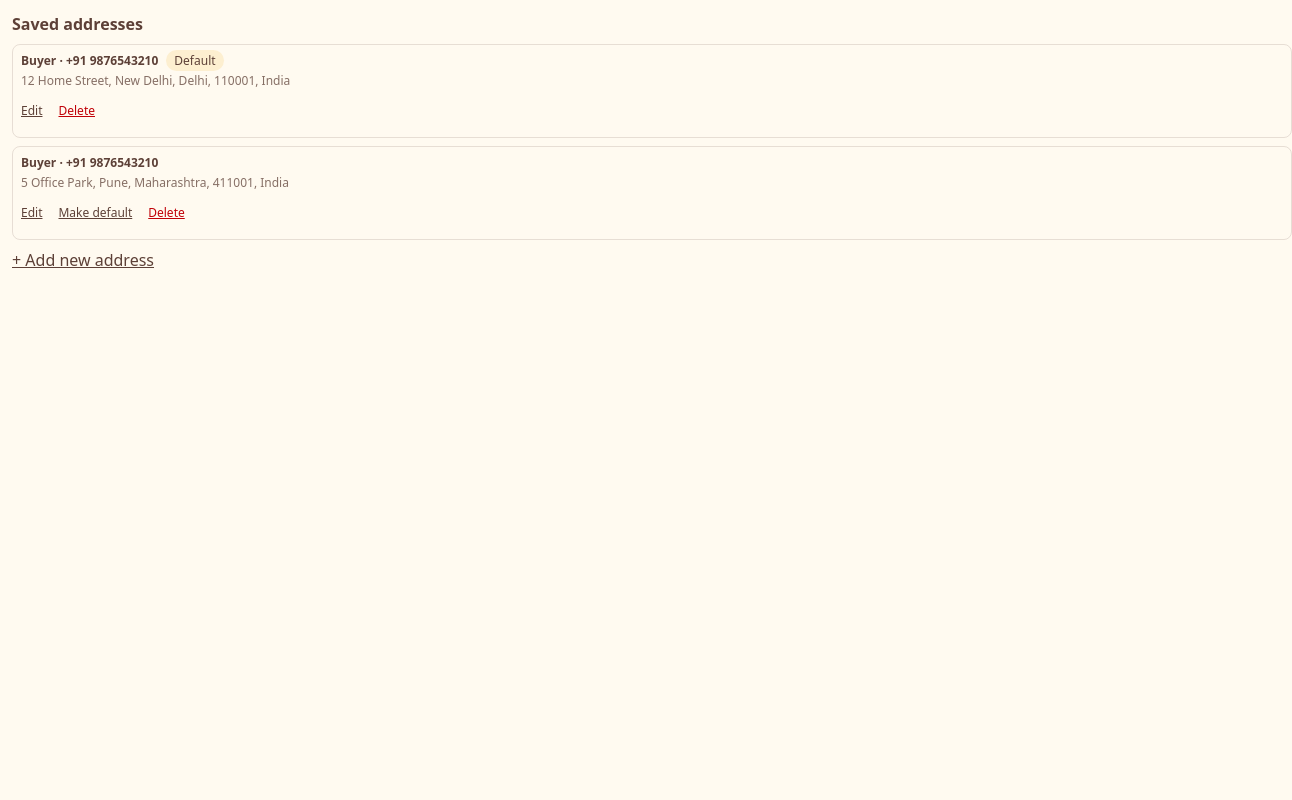
Test: adds a new address and refreshes the default
Click the button "+ Add new address". click: (83, 260)
box: [12,248,154,272]
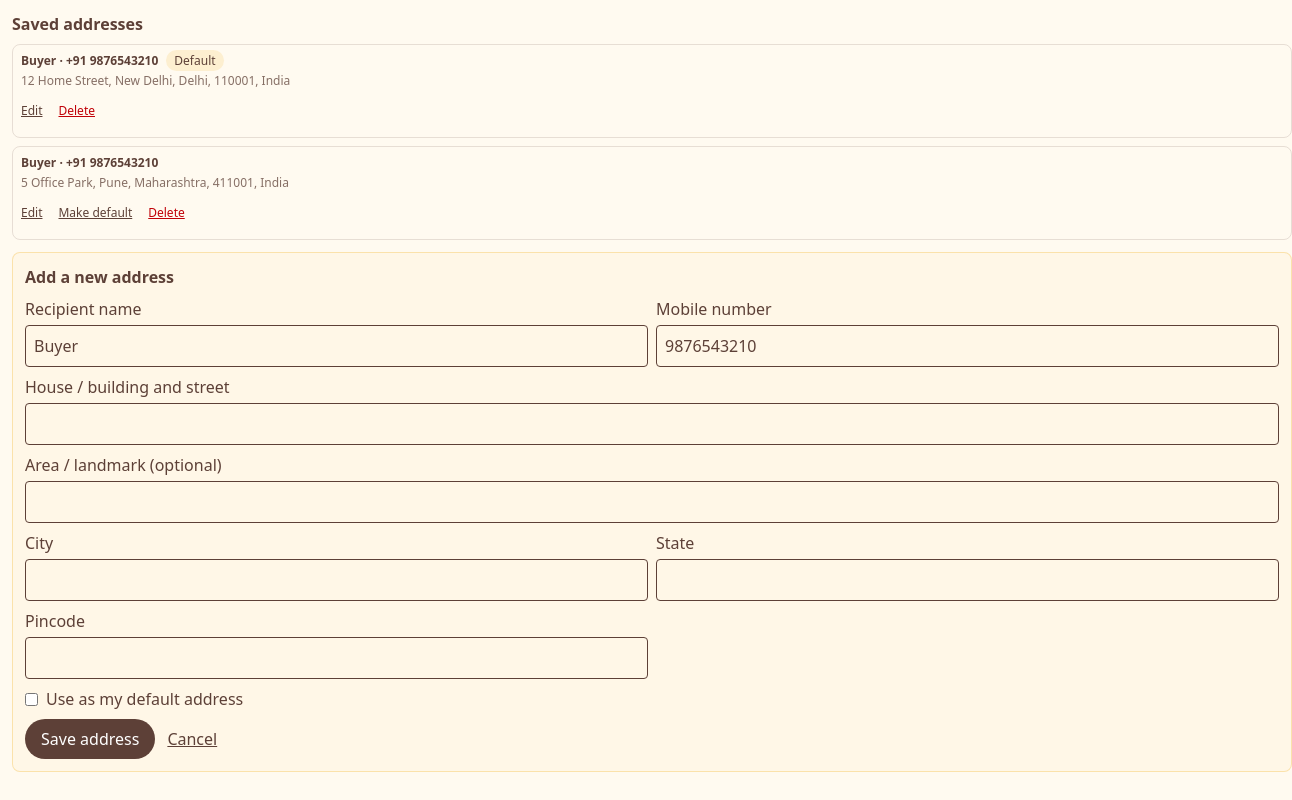
Expected: the field labelled "Recipient name" holds "Buyer", [25,325,648,367]
Type "9 New Lane" into the field labelled "House / building and street". click: (652, 424)
box: [25,403,1279,445]
Type "Jaipur" into the field labelled "City". click: (336, 580)
box: [25,559,648,601]
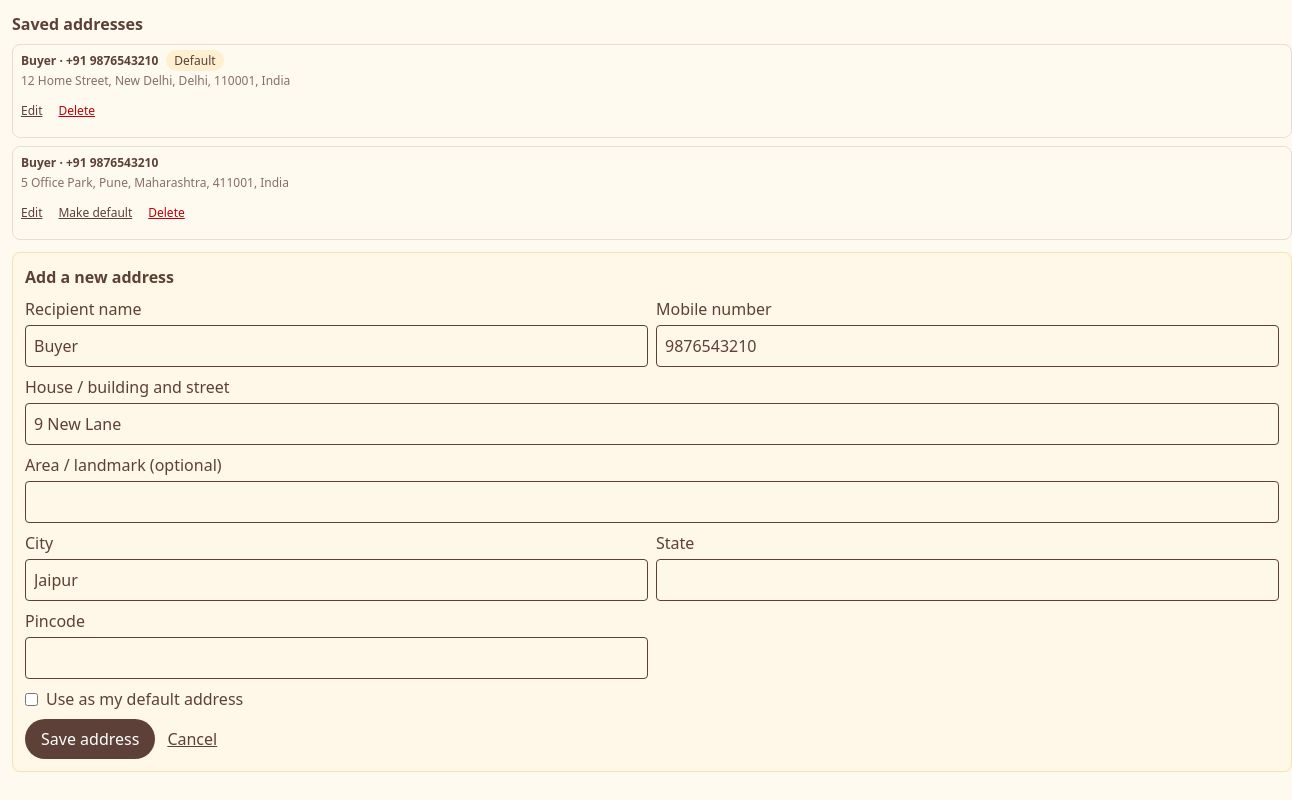
Type "Rajasthan" into the field labelled "State". click: (968, 580)
box: [656,559,1279,601]
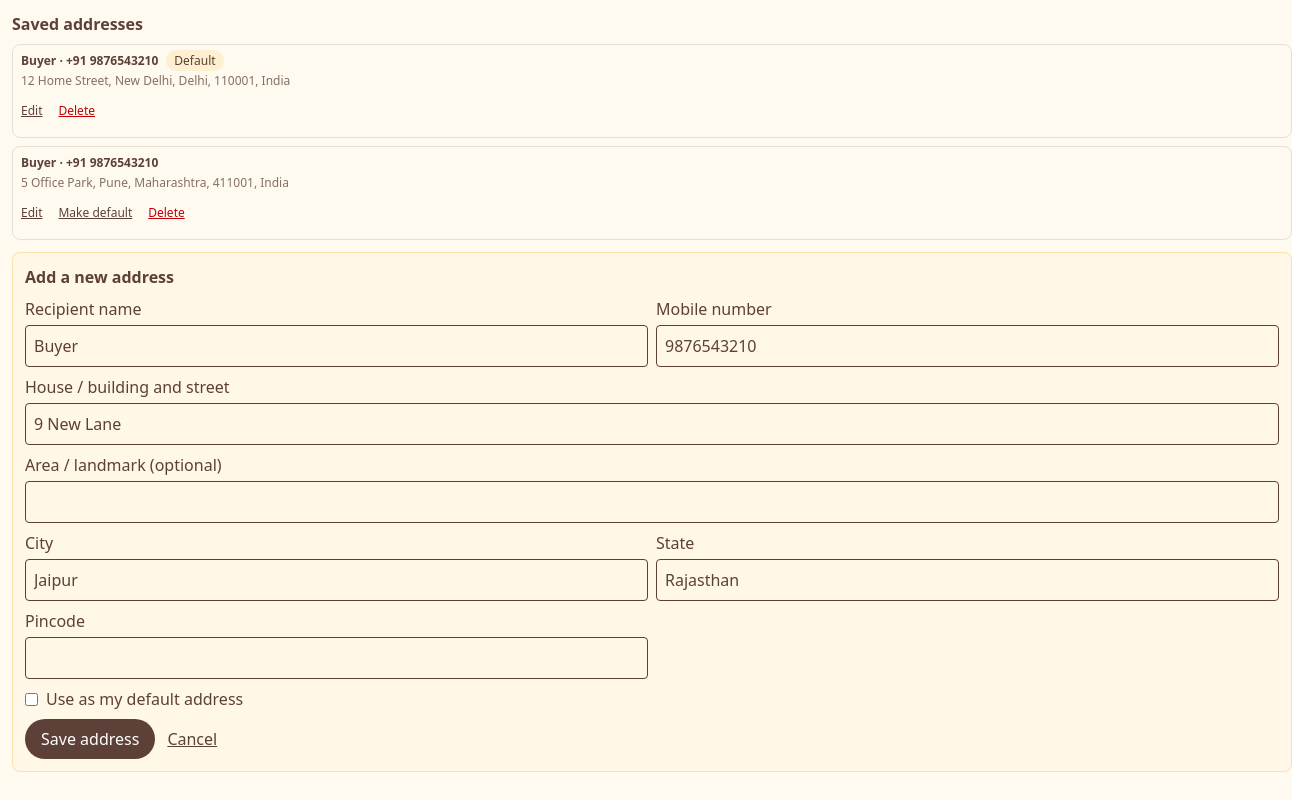
Type "302001" into the field labelled "Pincode". click: (336, 658)
box: [25,637,648,679]
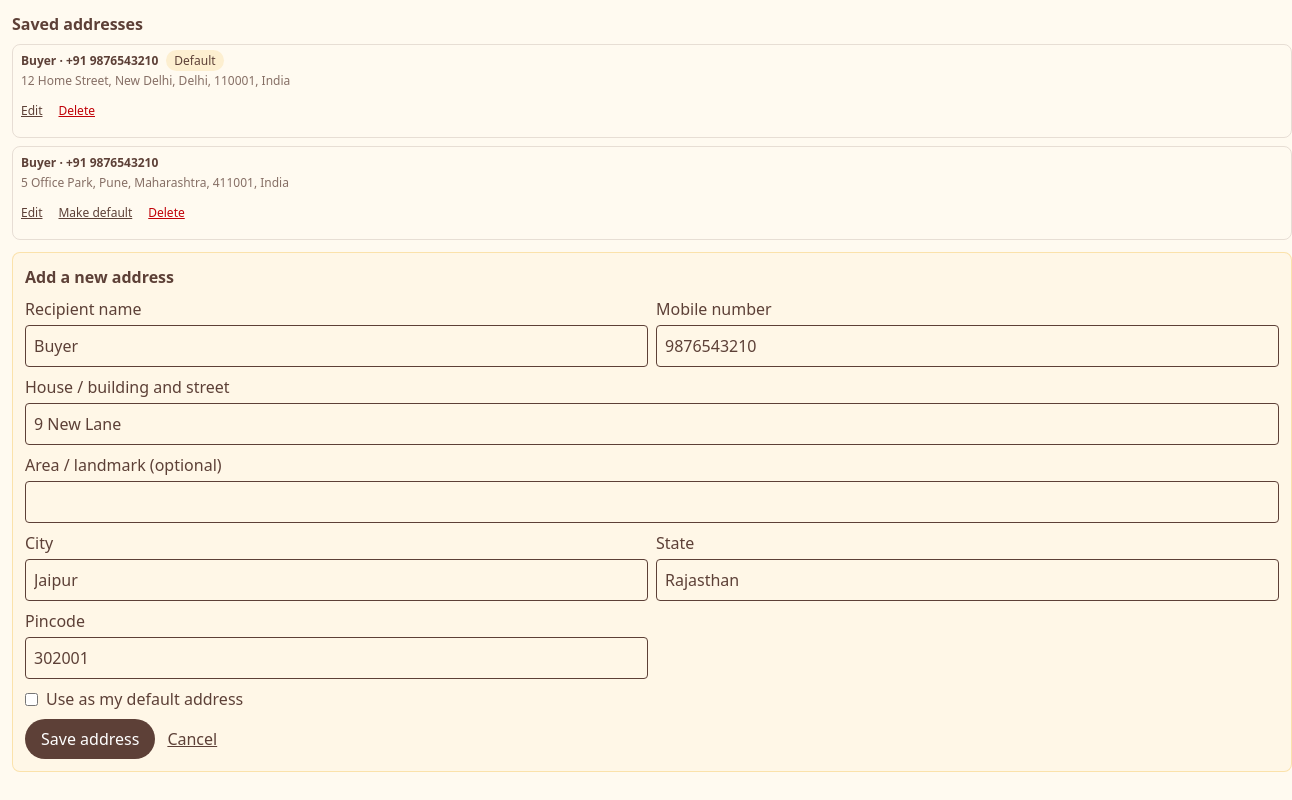
Click the checkbox labelled "Use as my default address". click: (32, 699)
box: [25,692,38,706]
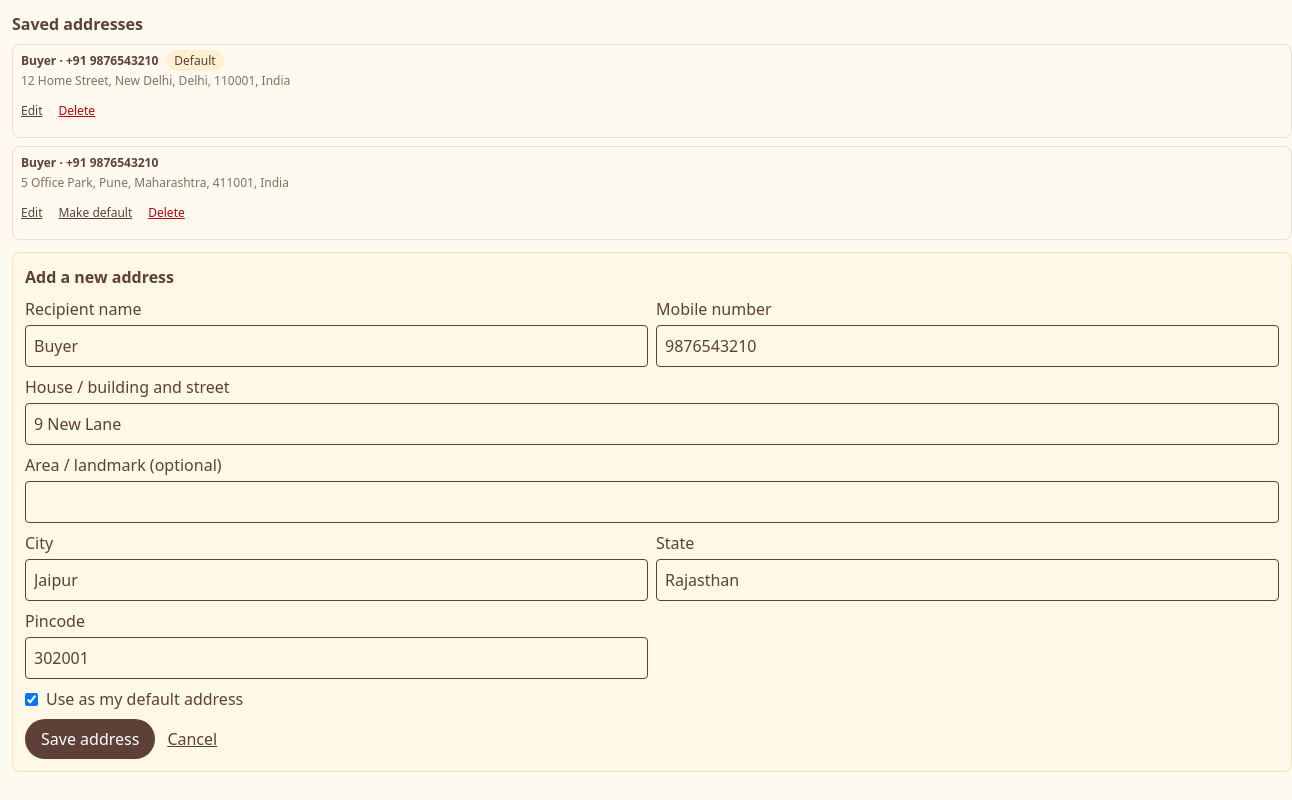
Click the button "Save address". click: (90, 739)
box: [25,719,155,759]
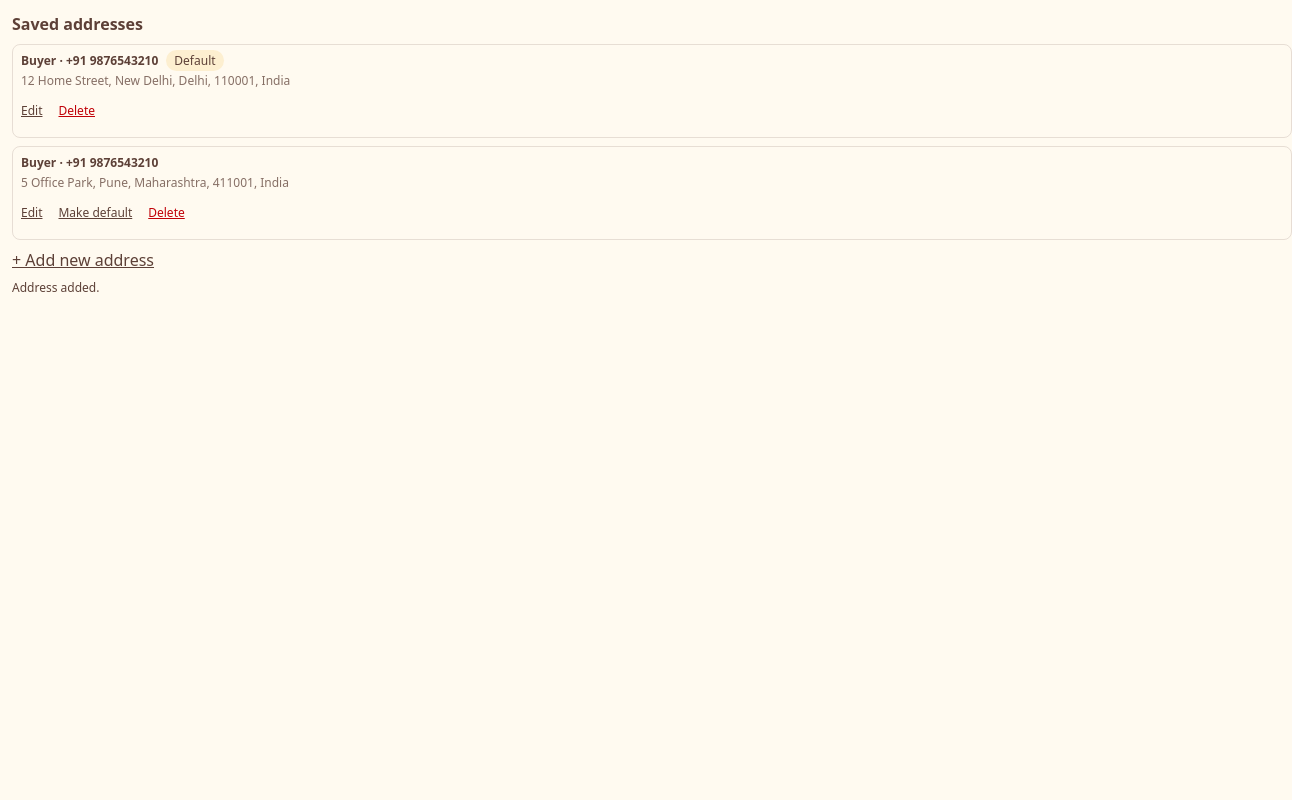
Expected: the message reads "Address added.", [12,279,99,296]
